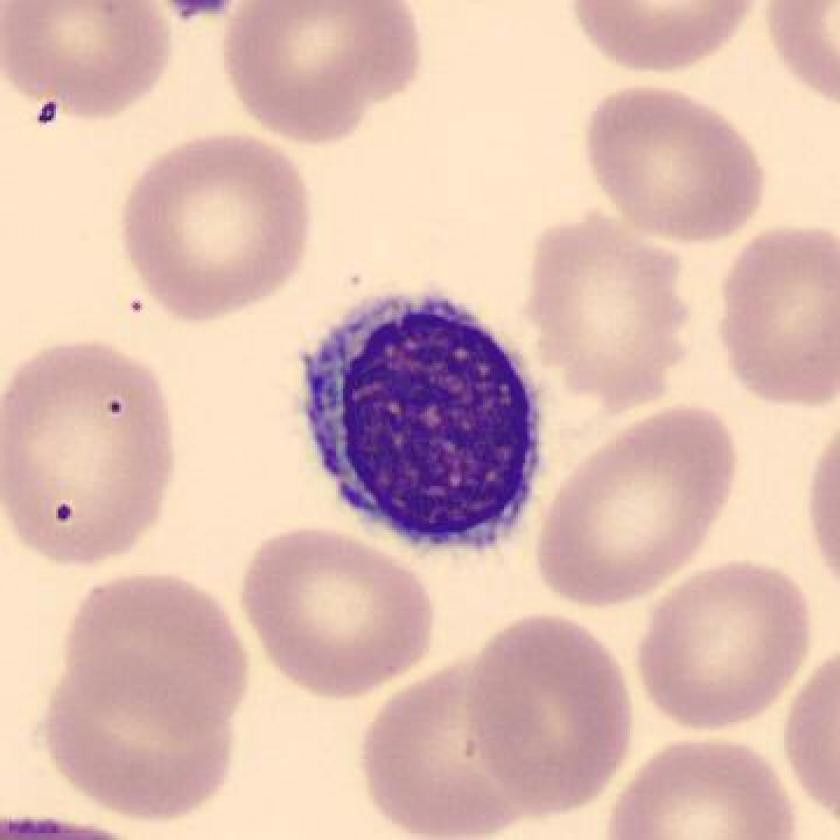lymphocyte: (284, 270, 564, 571)
